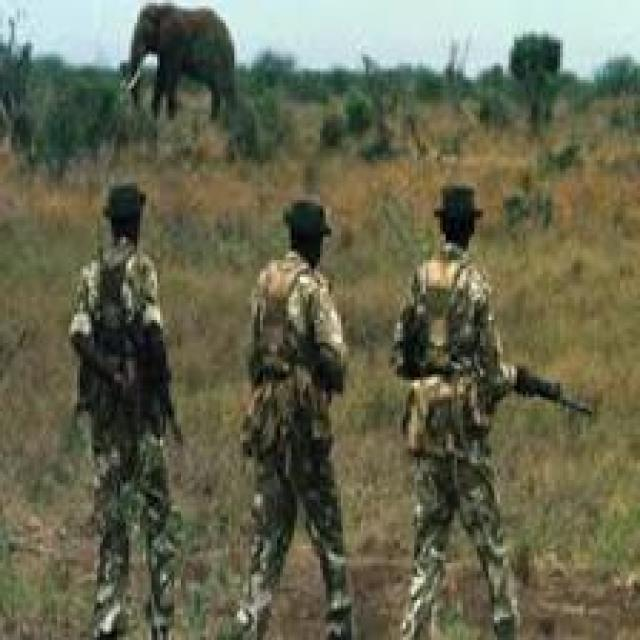Elephant: (116, 0, 247, 126)
Rifle: (500, 354, 609, 437)
